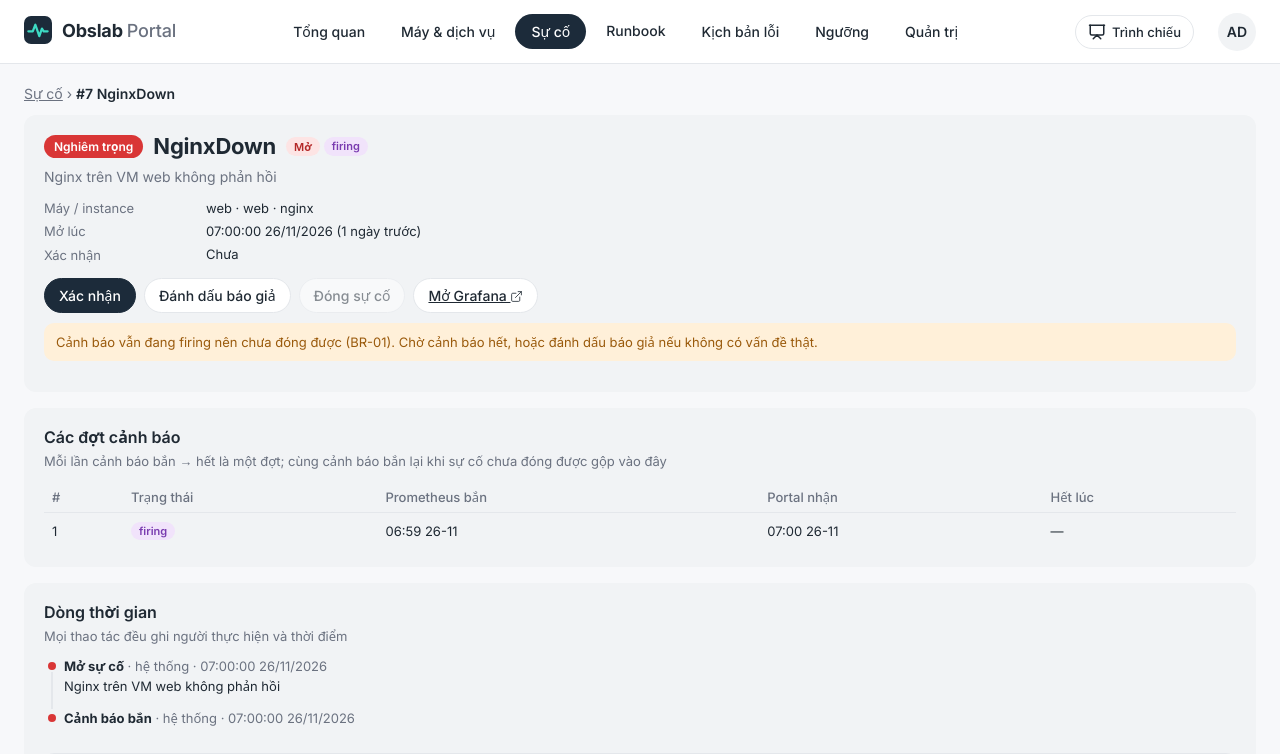
Scenario: chi tiết sự cố › backend từ chối thì hiện nguyên thông báo
Click the button "Xác nhận". click: (90, 296)
box: [44, 278, 136, 313]
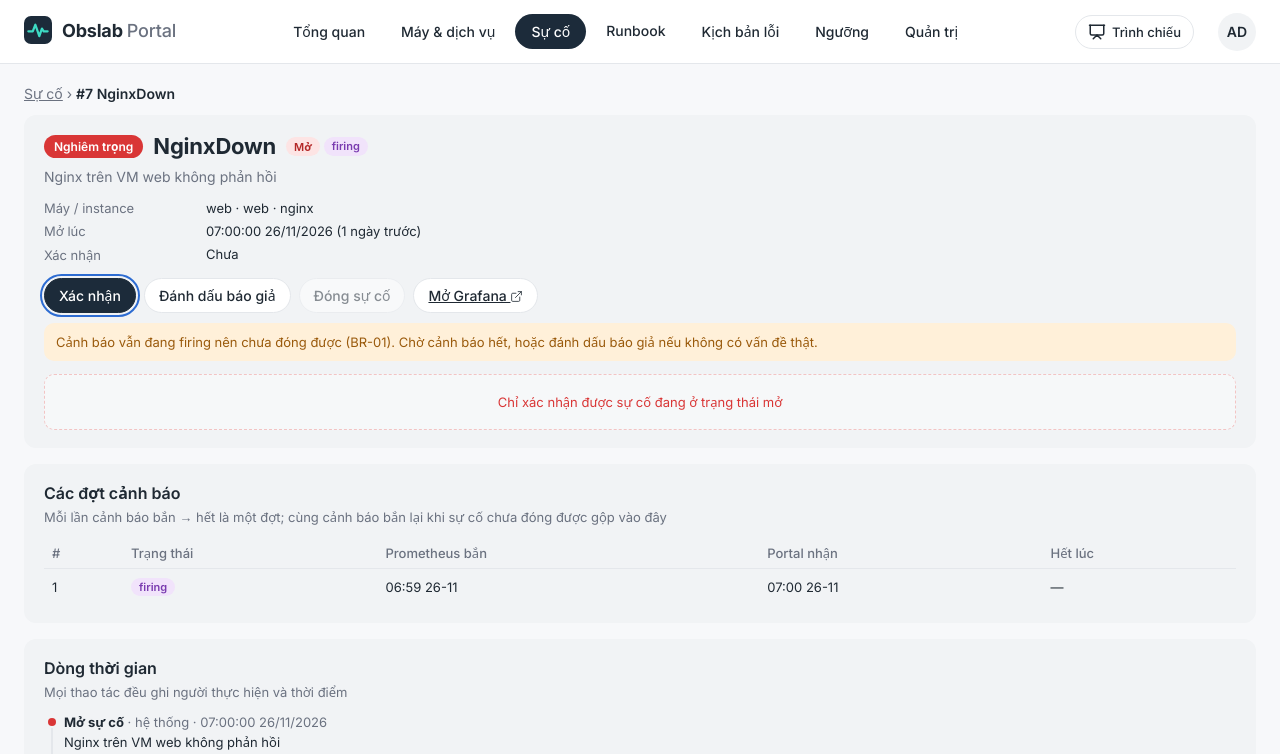
Now the text "Chỉ xác nhận được sự cố đang ở trạng thái mở" is shown, box [44, 374, 1236, 430]
